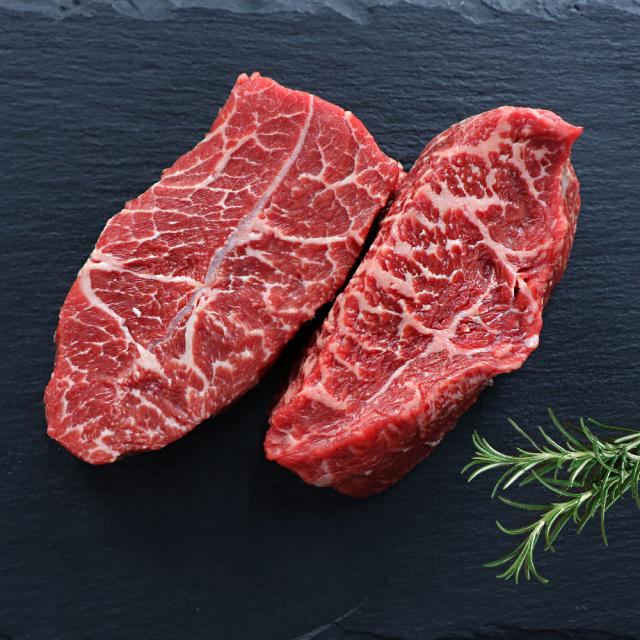beef: (99, 133, 313, 426), (328, 160, 540, 448)
